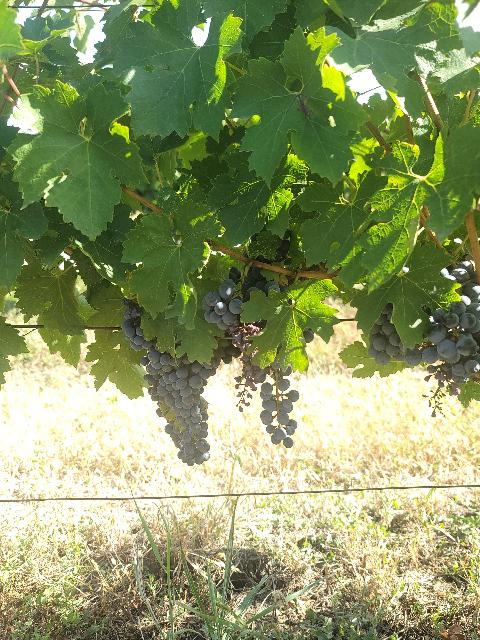grapes: (121, 299, 220, 465), (202, 266, 288, 330), (260, 361, 300, 449)
